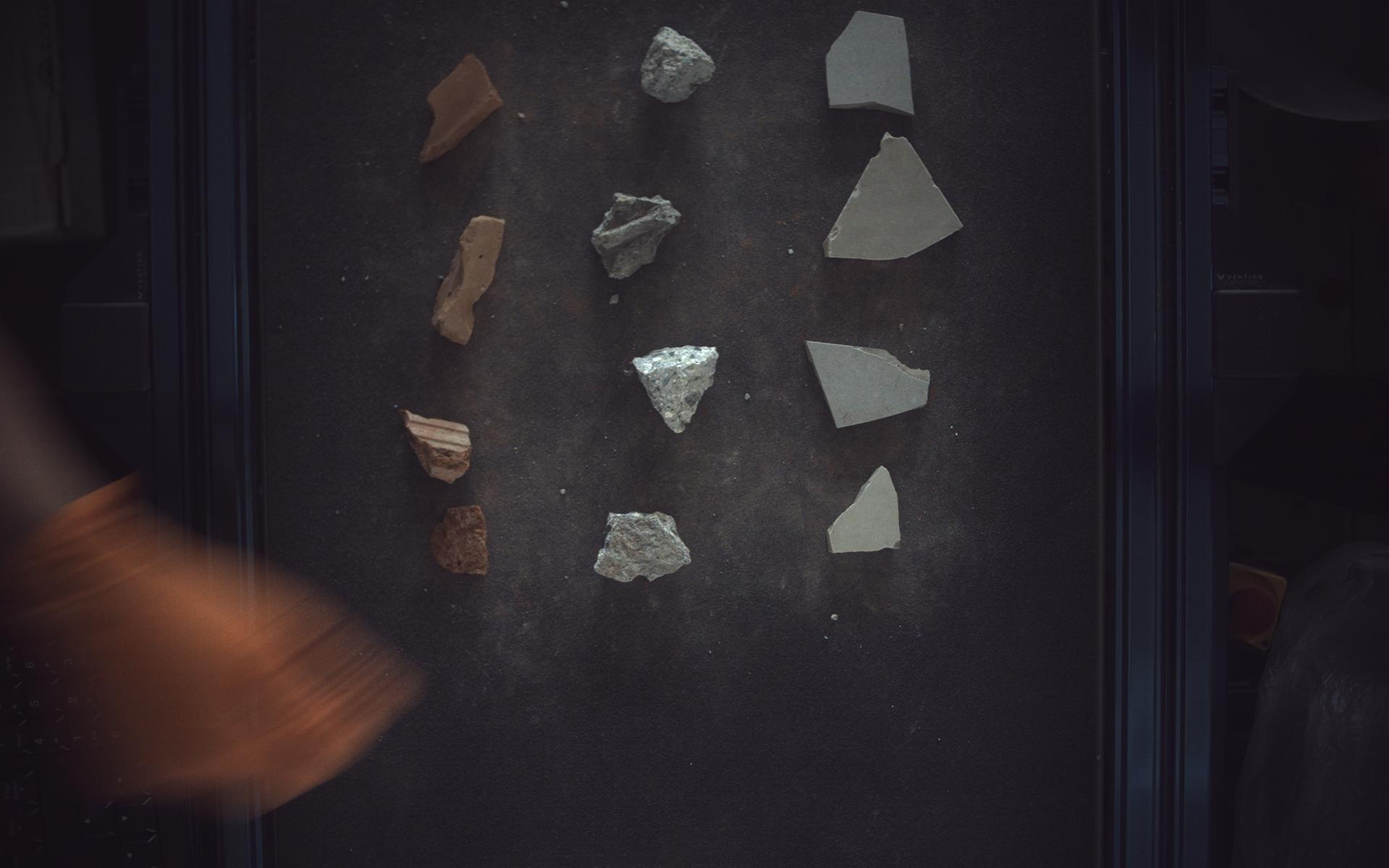brick: (432, 215, 504, 344), (420, 52, 503, 162), (399, 409, 472, 483), (432, 506, 488, 575)
concrete: (592, 192, 681, 278), (634, 345, 720, 433), (595, 512, 692, 583), (642, 25, 716, 101)
tile: (825, 131, 964, 260), (807, 341, 932, 428), (828, 10, 915, 114), (830, 466, 901, 553)
